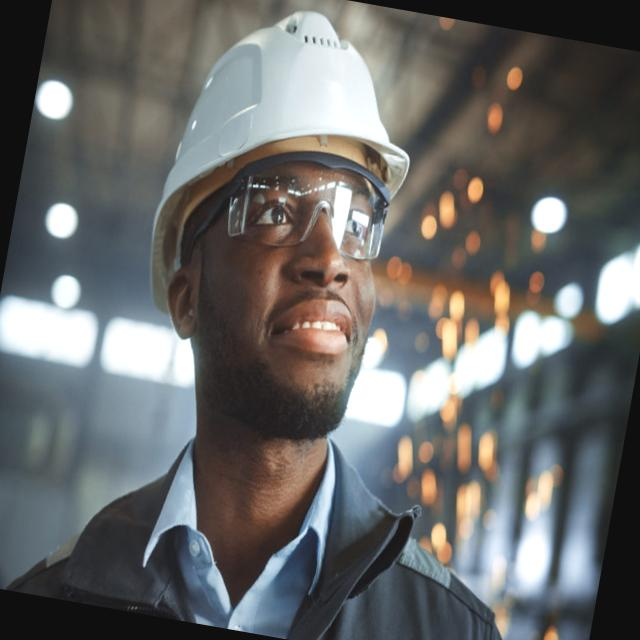goggles: (193, 140, 407, 276)
helmet: (105, 0, 442, 303)
no-vest: (17, 430, 527, 640)
